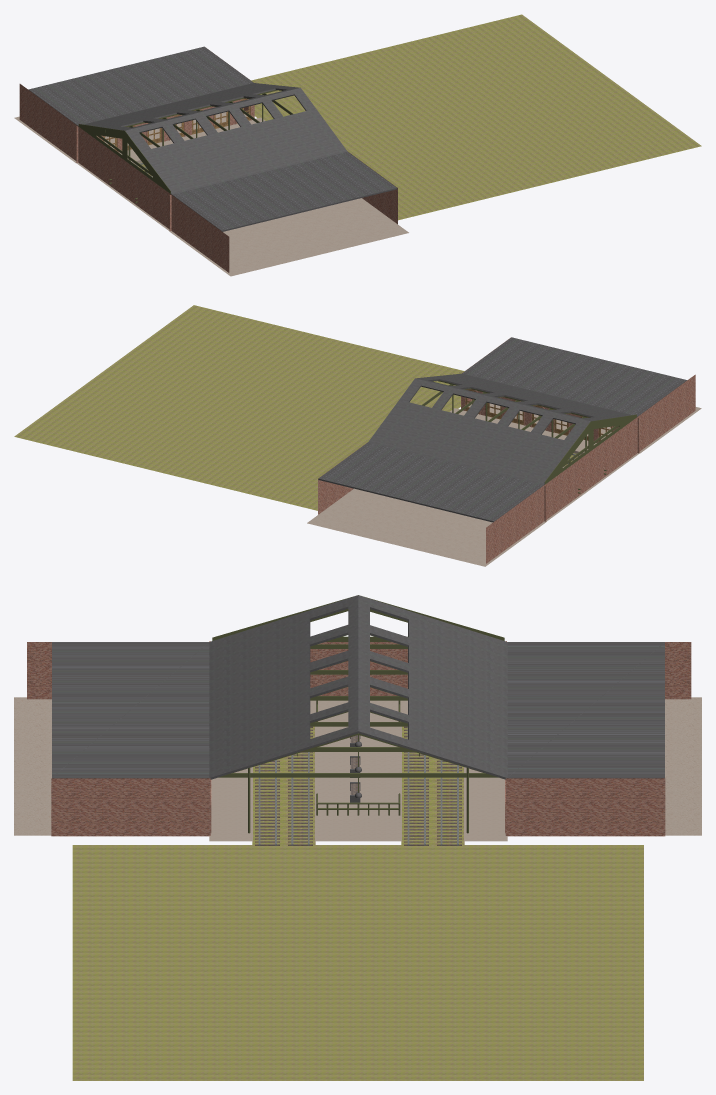
File: zugzeit.obj
The picture shows the model from 3 angles, top to bottom: view 1: azimuth 30°, elevation 25°; view 2: azimuth 150°, elevation 25°; view 3: azimuth 270°, elevation 25°; orthographic projection. The views are drawn at different scales.
Parts seen in each view (by area): view 1: Plane.001, Cube.182, Plane.006, Cube.179, Cylinder.017, Cube.180, Cube.177, Cube.176; view 2: Plane.001, Cube.182, Plane.006, Cube.179, Cylinder.017, Cube.181, Cube.174, Cube.175; view 3: Plane.001, Cube.182, Plane.006, Cube.181, Cube.180, Cube.170, Cube.179, Cylinder.017, Cube.001.
Part boxes in pixels (x1,y1,x2,y2): Plane.001: (135,14,701,220); Cube.182: (28,46,397,231); Plane.006: (14,112,408,276); Cube.179: (19,84,229,272); Cylinder.017: (78,90,293,193); Cube.180: (349,152,397,224); Cube.177: (76,98,254,162); Cube.176: (103,99,250,150); Plane.001: (14,305,580,510); Cube.182: (318,337,687,522); Plane.006: (307,403,701,566); Cube.179: (486,374,695,563); Cylinder.017: (421,380,636,484); Cube.181: (318,442,367,514); Cube.174: (461,389,639,453); Cube.175: (465,389,612,441); Plane.001: (72,726,643,1080); Cube.182: (52,595,664,779); Plane.006: (14,697,701,841); Cube.181: (505,778,665,836); Cube.180: (51,778,210,836); Cube.170: (255,726,461,845); Cube.179: (27,642,691,699); Cylinder.017: (212,595,504,792); Cube.001: (258,727,458,845).
Bounding box in the file's own units: 87.28 × 11.71 × 66.89.
Materials: 8 (8 with a texture image).
